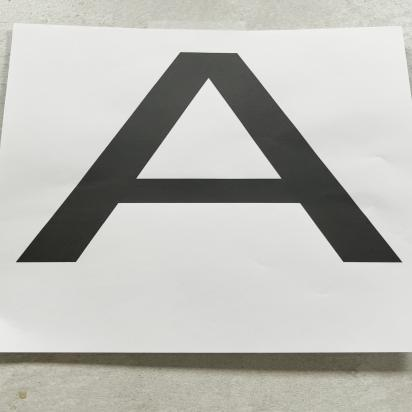seat: (27, 35, 412, 268)
